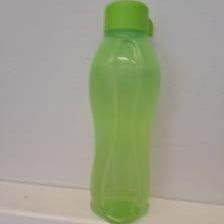bottle: (83, 1, 161, 223)
